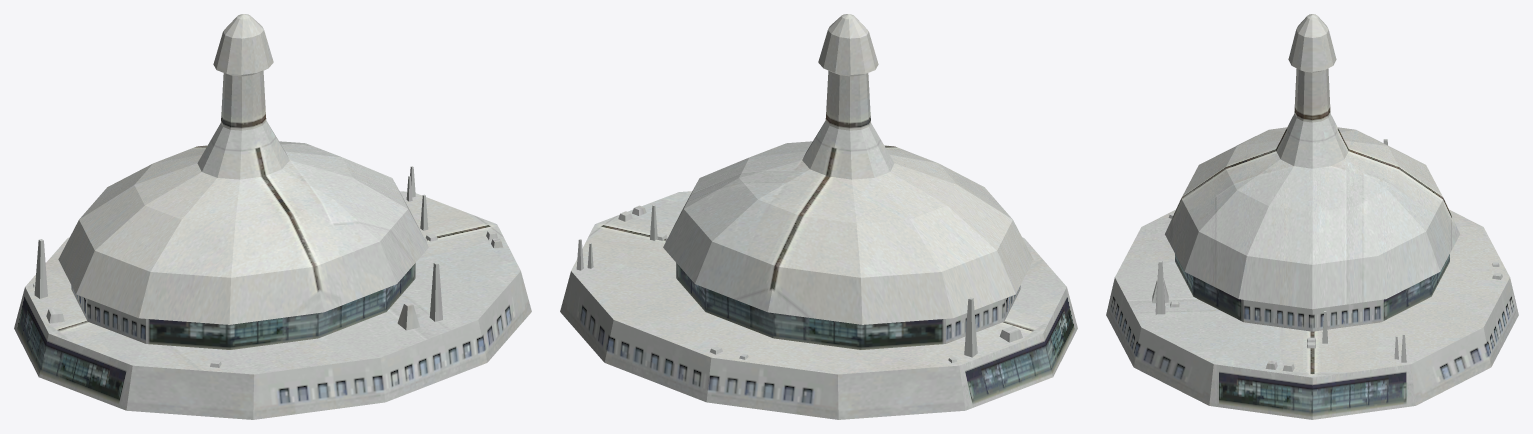
Rendered from eaw_alderaanBldg3.glb.
3 renders of one model, left to right at view 1: azimuth 30°, elevation 25°; view 2: azimuth 150°, elevation 25°; view 3: azimuth 270°, elevation 25°, orthographic. The views are drawn at different scales.
Visible parts, largest first — view 1: Alderaan_C_0; view 2: Alderaan_C_0; view 3: Alderaan_C_0.
Boxes of the visible parts, <box> form: Alderaan_C_0: <box>14,14,531,419</box>; Alderaan_C_0: <box>560,14,1077,419</box>; Alderaan_C_0: <box>1106,14,1518,419</box>.
Size of the model in its own units: 135 by 86.04 by 112.
1 material, 1 textured.
